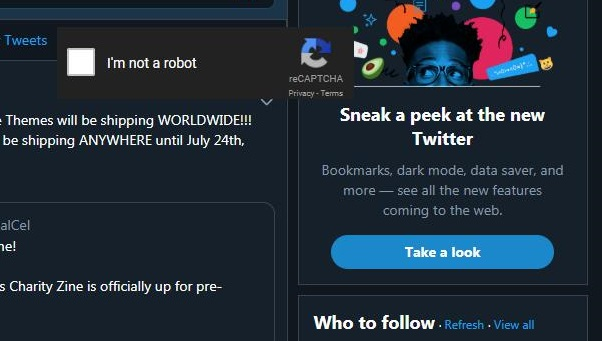captcha: (66, 47, 200, 76)
